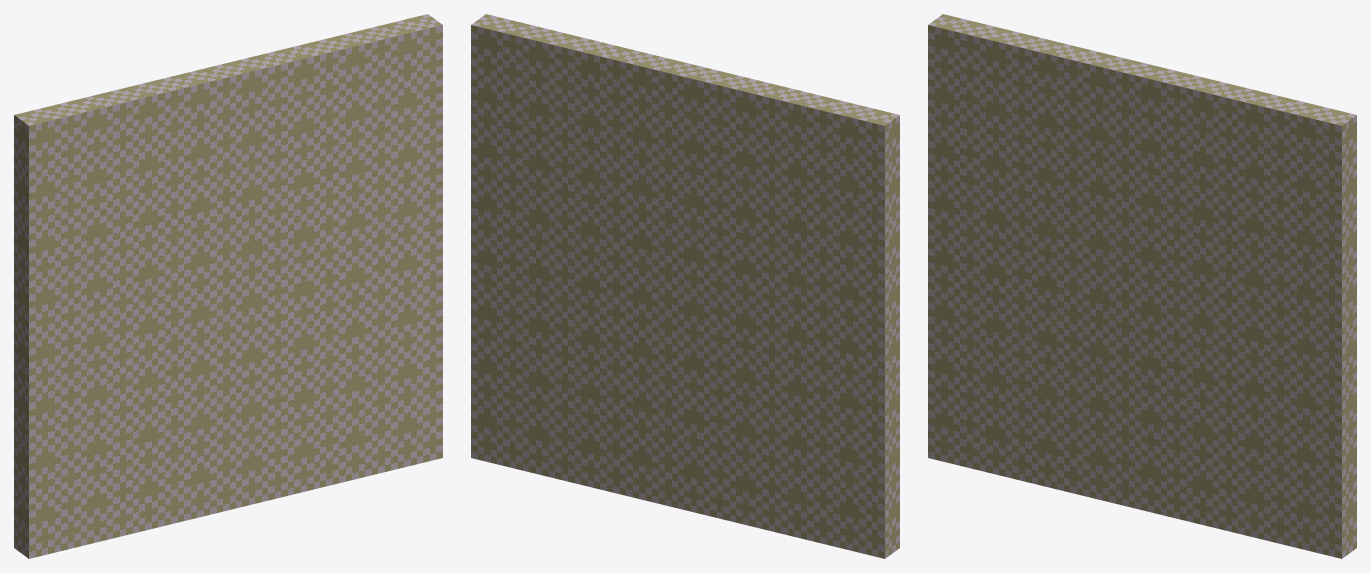
The model's file is wall_textured_a_4_col.gltf.
3 renders of one model, left to right at view 1: azimuth 30°, elevation 25°; view 2: azimuth 150°, elevation 25°; view 3: azimuth 330°, elevation 25°, orthographic.
Visible parts, largest first — view 1: wall_textured_a_4_col; view 2: wall_textured_a_4_col; view 3: wall_textured_a_4_col.
Boxes of the visible parts, left/top/right/bottom form: wall_textured_a_4_col: left=14, top=14, right=442, bottom=558; wall_textured_a_4_col: left=471, top=14, right=899, bottom=558; wall_textured_a_4_col: left=928, top=14, right=1356, bottom=558.
Size of the model in its own units: 4 by 4 by 0.25.
1 material, 1 textured.
